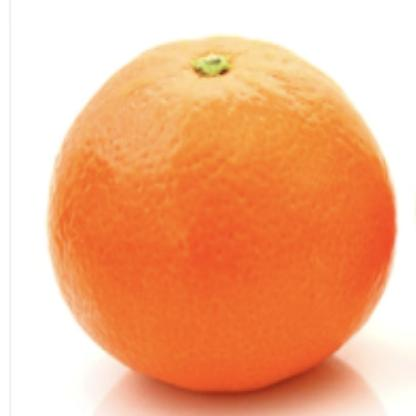fresh: (47, 36, 396, 398)
